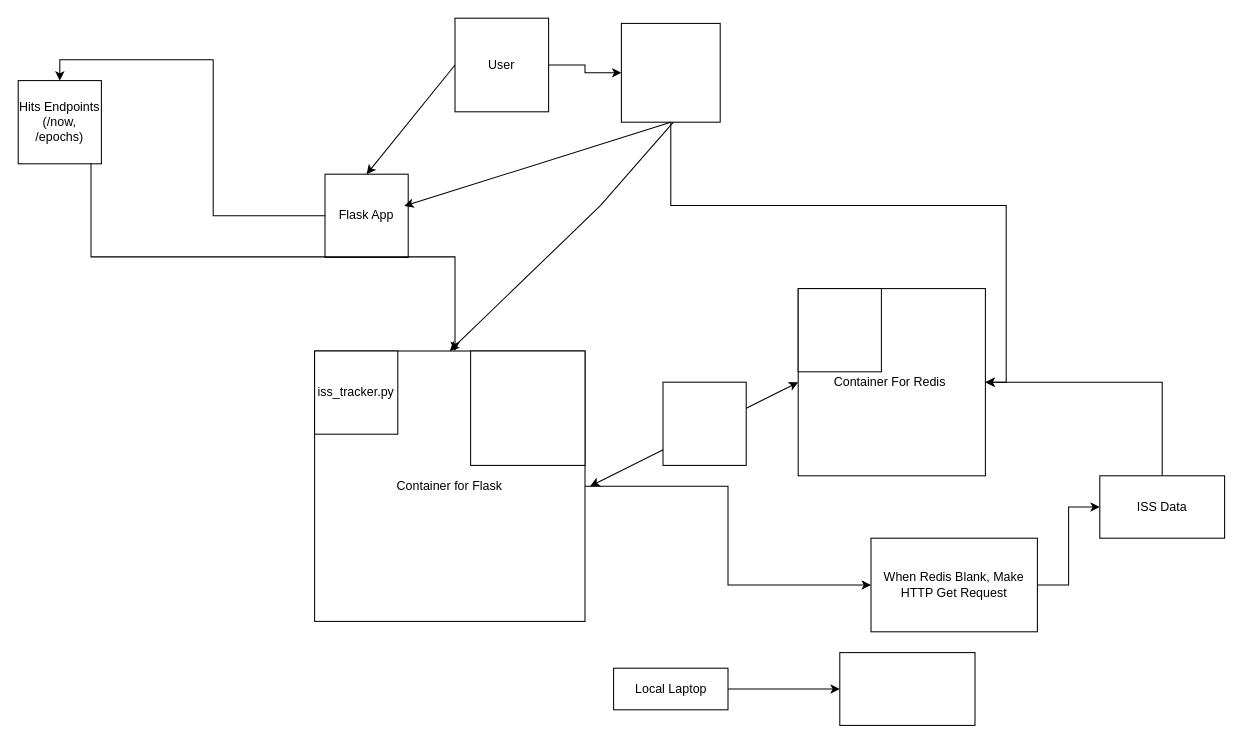
Some shapes in this 1243 by 744 pixel diagram are drawn without their labels. The centre of each missing label's shape, as x and y in pixels:
Build and Run Docker Image: the point at 670,72
Redis Database: the point at 839,330
Redis has data: the point at 704,423
SSH coe332VM: the point at 907,688
test_iss_tracker.py: the point at 527,407
